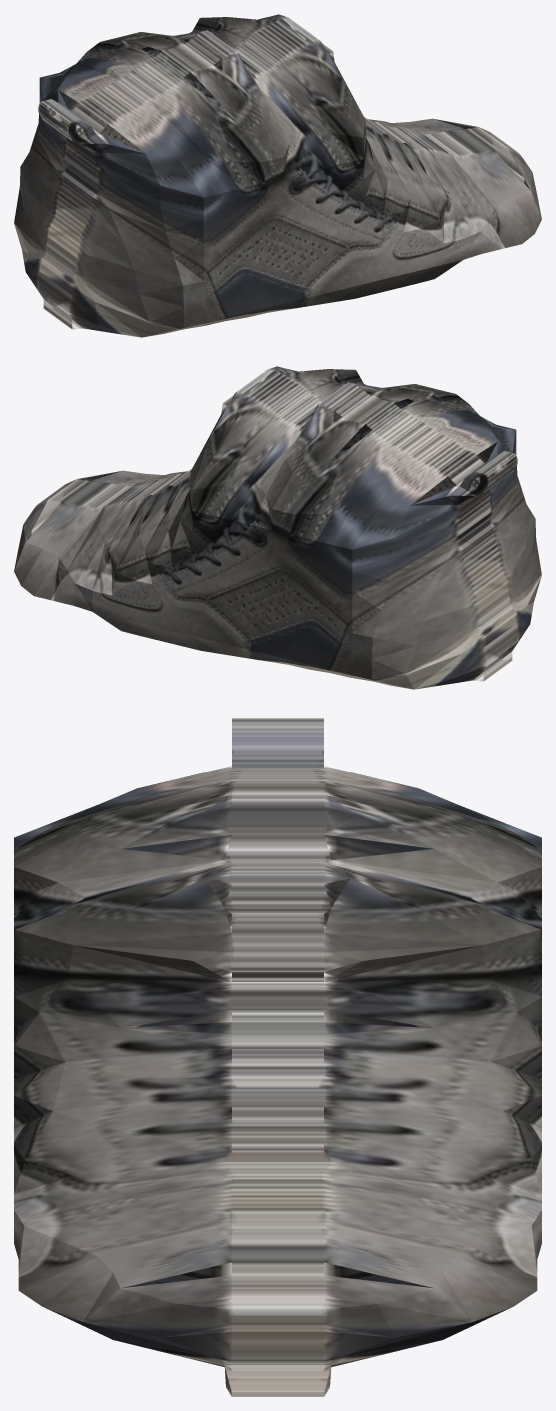
File: rukka-circuit-urban-riding-shoe-137.glb
3 views of the same model, one above another, from view 1: azimuth 30°, elevation 25°; view 2: azimuth 150°, elevation 25°; view 3: azimuth 270°, elevation 25° (orthographic). The views are drawn at different scales.
Visible parts, largest first — view 1: world; view 2: world; view 3: world.
Boxes of the visible parts, x1,y1,x2,y2 form: world: (14, 14, 541, 337); world: (14, 366, 541, 689); world: (14, 718, 541, 1396).
Size of the model in its own units: 1 by 0.5233 by 0.62.
1 material, 1 textured.
